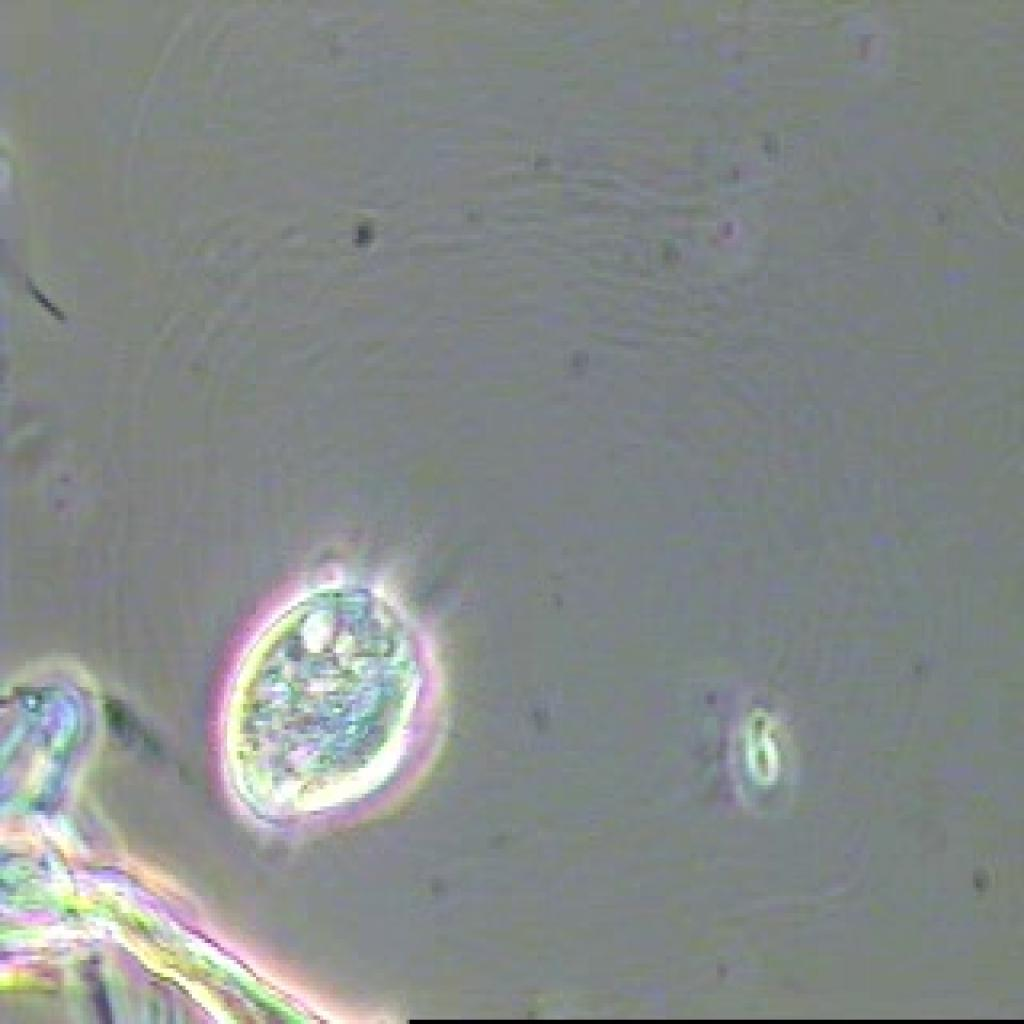Aspidisca: (202, 553, 464, 868)
